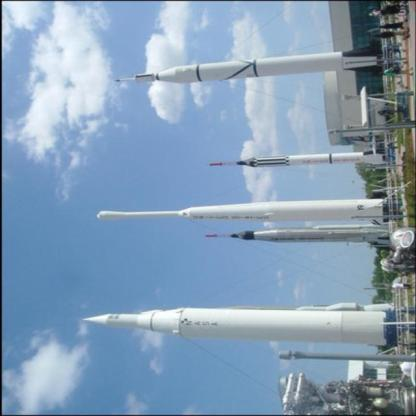MIL_TBM: (78, 301, 392, 350), (150, 49, 388, 86), (181, 198, 385, 221), (230, 224, 383, 245), (237, 152, 381, 168), (97, 204, 180, 222)
